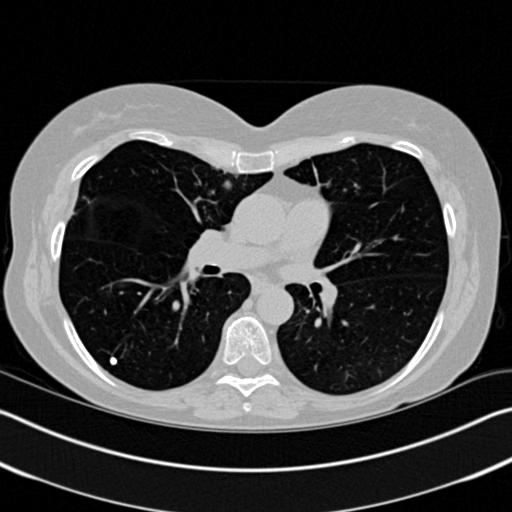nodule: (107, 355, 120, 368)
